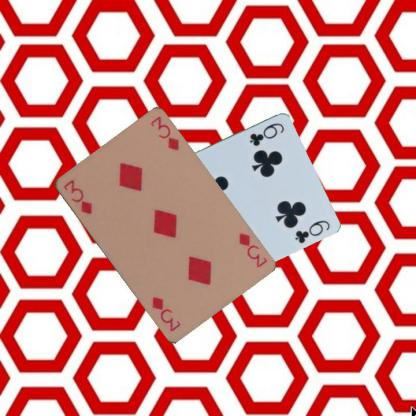3d: (60, 177, 93, 217), (235, 230, 268, 269)
6c: (247, 120, 286, 147)
